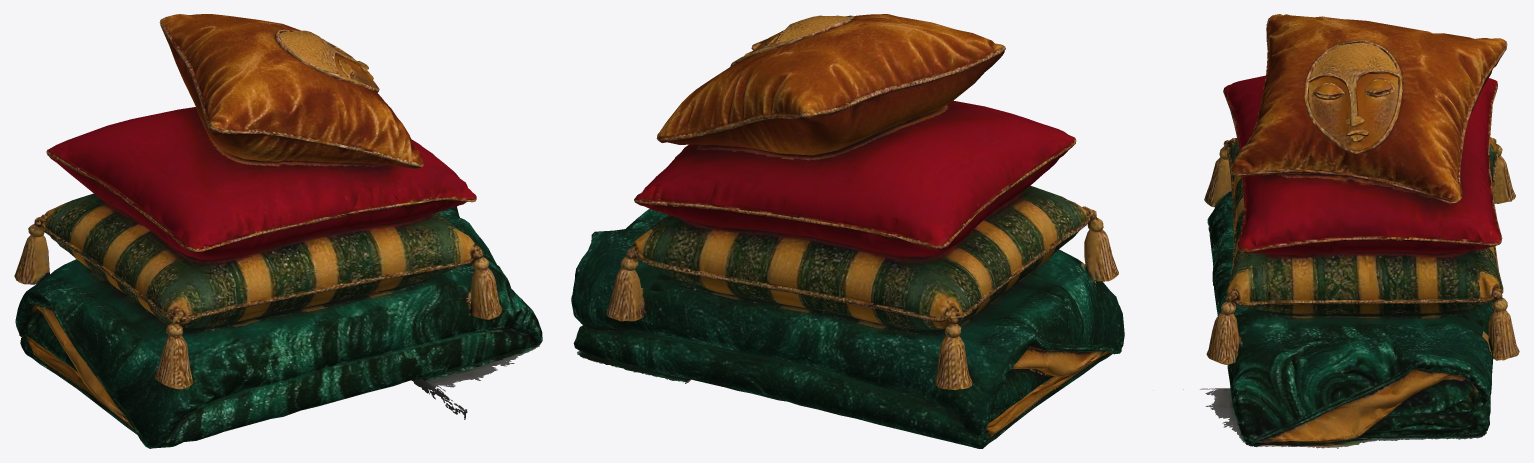
Rendered from MO-12_textiles_game.glb.
3 renders of one model, left to right at view 1: azimuth 30°, elevation 25°; view 2: azimuth 150°, elevation 25°; view 3: azimuth 270°, elevation 25°, orthographic. The views are drawn at different scales.
Visible parts, largest first — view 1: MO-12_textiles; view 2: MO-12_textiles; view 3: MO-12_textiles.
Boxes of the visible parts, x1,y1,x2,y2 form: MO-12_textiles: (14, 14, 542, 448); MO-12_textiles: (571, 14, 1124, 448); MO-12_textiles: (1183, 14, 1519, 448).
Bounding box in the file's own units: 0.65 × 0.4829 × 0.5016.
Materials: 1 (1 with a texture image).
